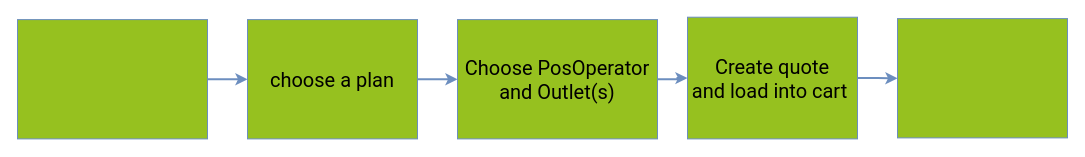
Image size: 1085x157. Some labels were removed from this diagram. Each missing label, with the centre of its shape:
"binding order" belongs at pixel 982 78.
"select Rollout Management -> Plans" belongs at pixel 112 79.
